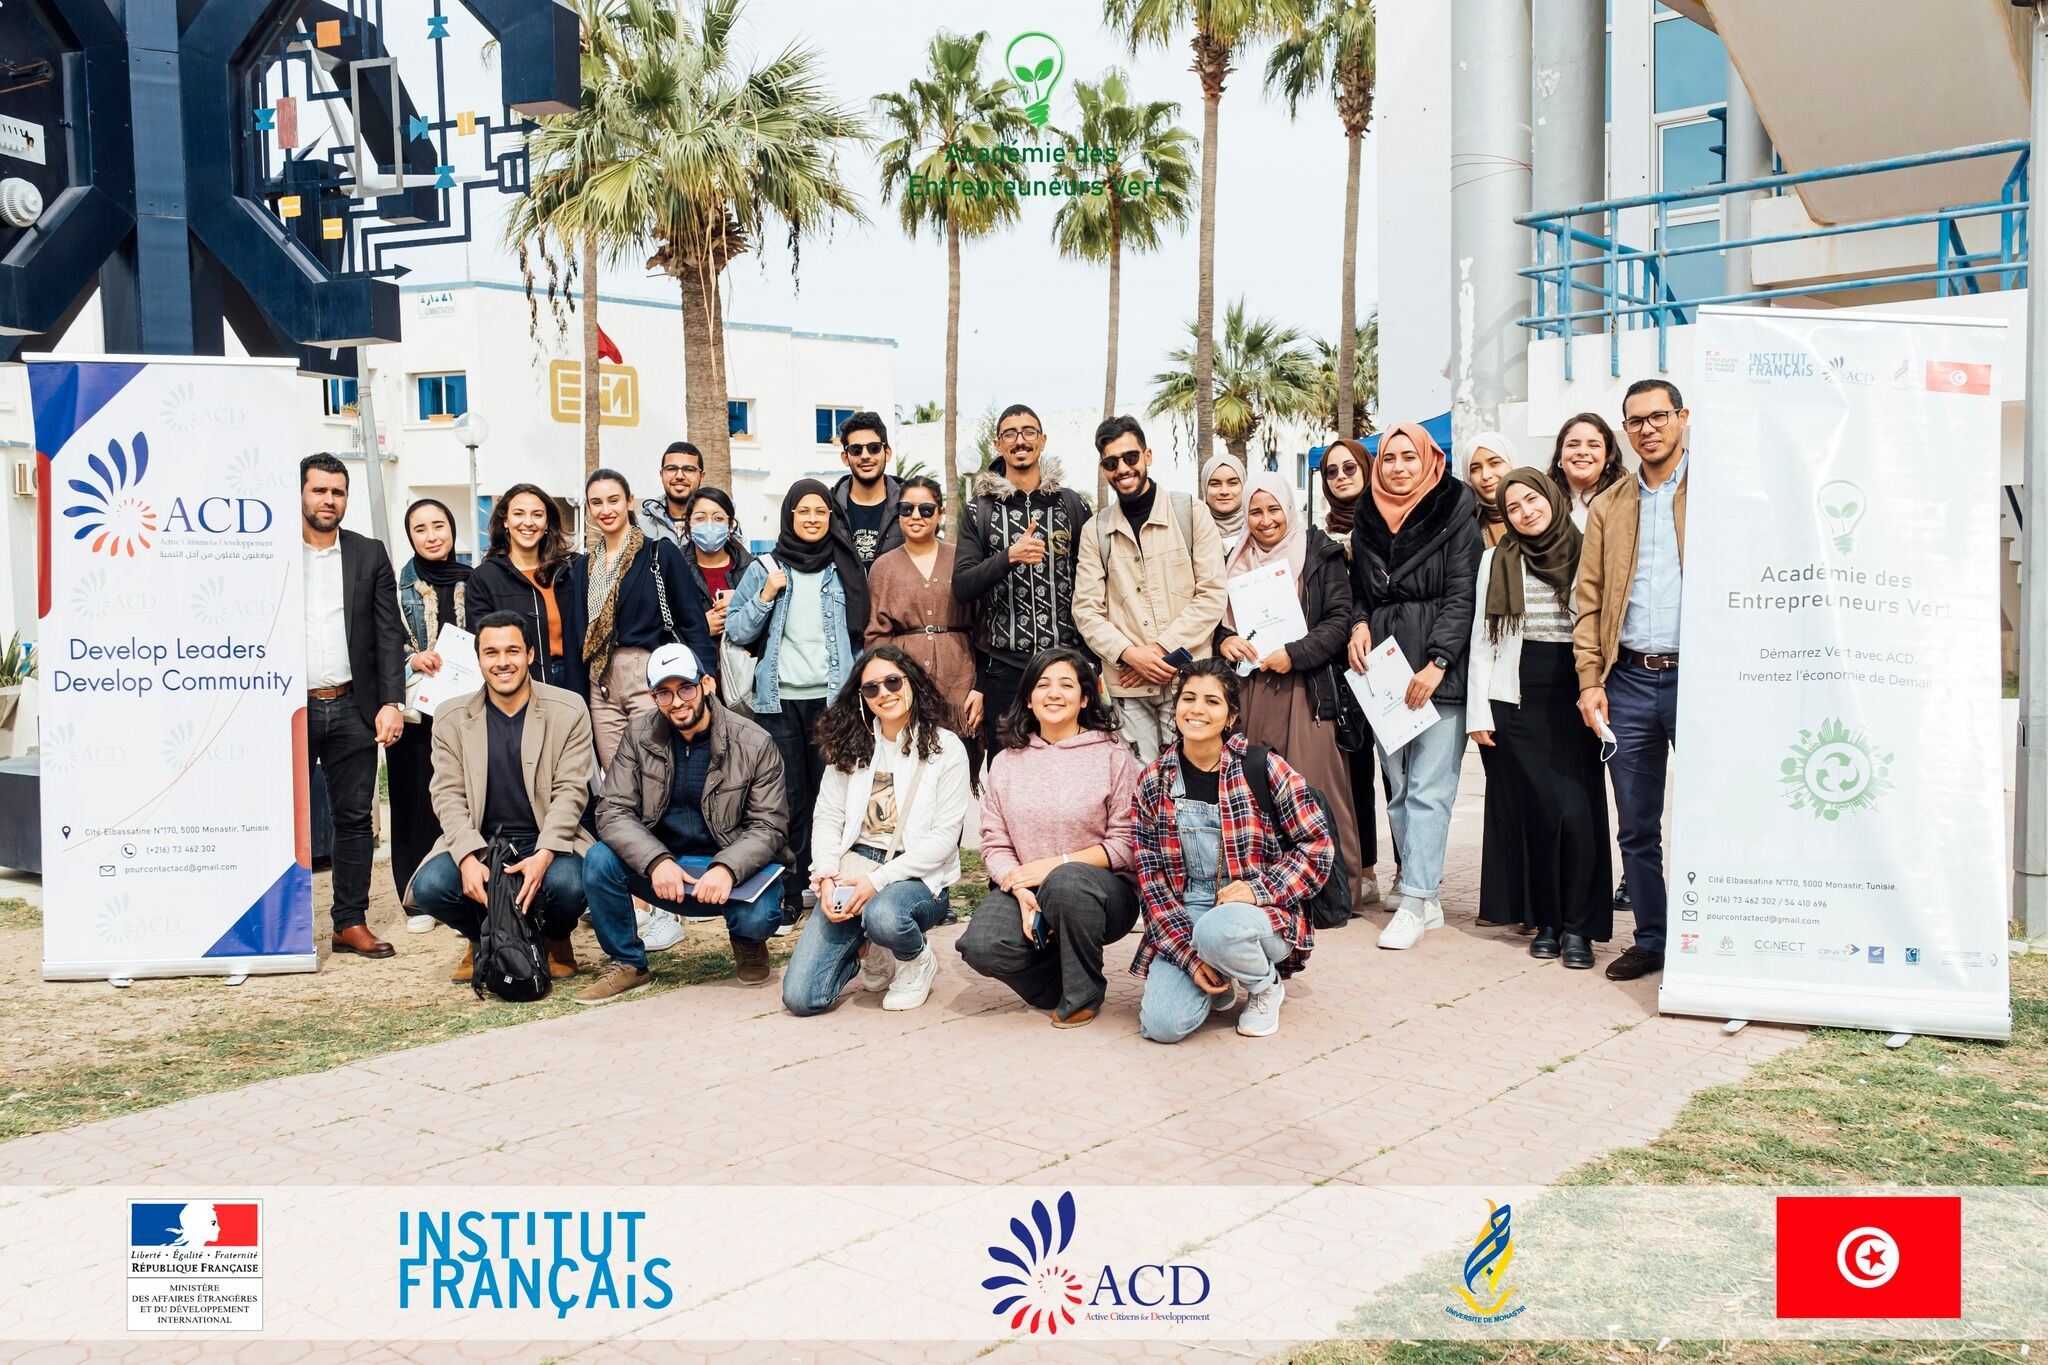without_mask: (1169, 689, 1221, 739), (1625, 407, 1676, 456), (478, 638, 531, 685), (650, 686, 699, 730), (1099, 451, 1144, 498), (308, 482, 350, 530), (1465, 454, 1509, 499), (862, 677, 911, 718), (1036, 674, 1077, 720), (1509, 492, 1547, 540), (894, 501, 937, 543), (1564, 435, 1603, 480), (1325, 457, 1364, 501), (1250, 498, 1287, 546), (509, 510, 549, 551), (1002, 426, 1044, 466), (1385, 443, 1424, 487), (847, 438, 886, 479), (410, 514, 451, 551), (1208, 471, 1243, 511), (794, 505, 830, 541), (589, 492, 628, 527), (662, 463, 696, 496)
